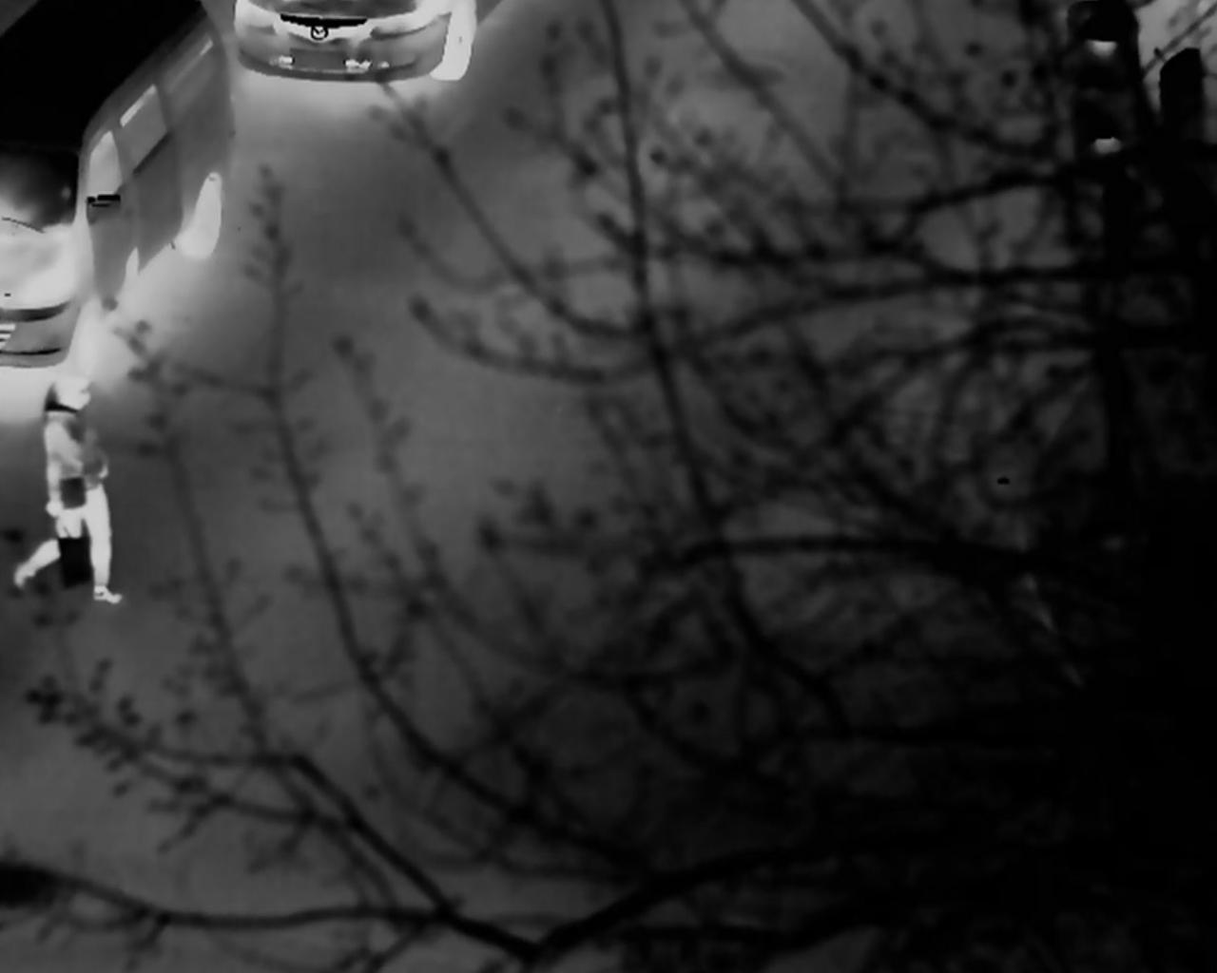person: (17, 381, 133, 594)
